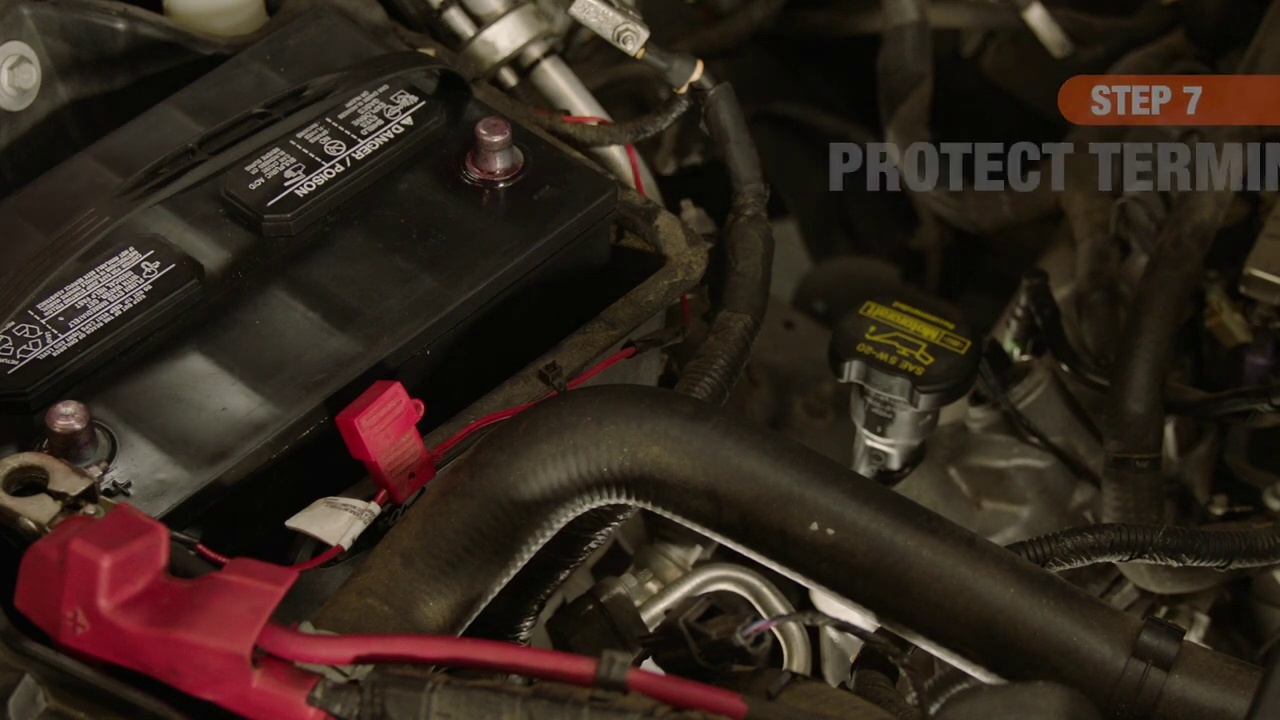battery: (10, 29, 617, 613)
neg_disconnected: (393, 90, 584, 213)
pos_disconnected: (3, 361, 139, 579)
